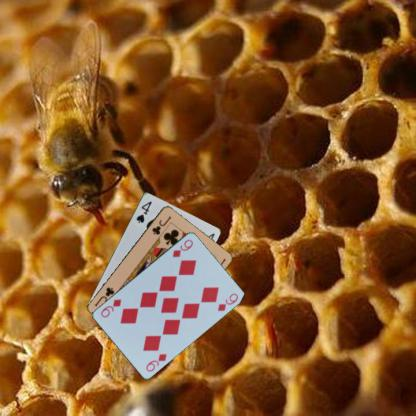4s: (134, 198, 153, 224)
9d: (143, 350, 168, 372), (170, 236, 194, 258)
Jc: (149, 213, 173, 236)
